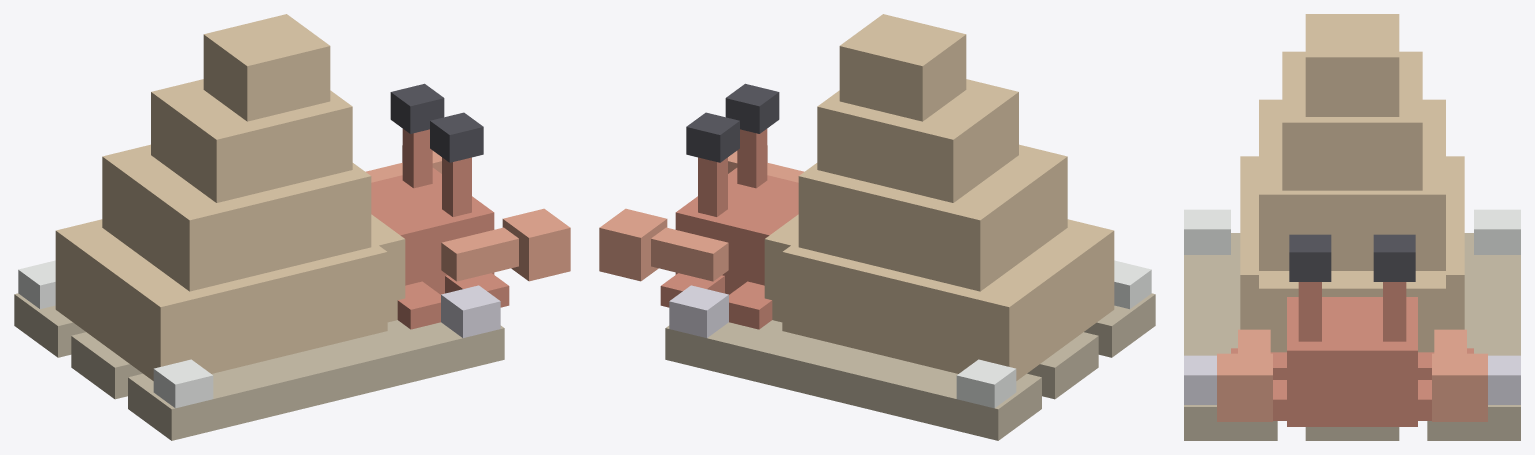
File: 36-Fauna_cangrejo_ermitano.glb
The picture shows the model from 3 angles, left to right: view 1: azimuth 30°, elevation 25°; view 2: azimuth 150°, elevation 25°; view 3: azimuth 270°, elevation 25°; orthographic projection. The views are drawn at different scales.
Parts seen in each view (by area): view 1: SM_Cangrejo_Concha_NOFUNDIR, SM_Cangrejo_Rodela_NOFUNDIR, SM_Cangrejo_Cuerpo_NOFUNDIR, SM_Cangrejo_Pinzas_NOFUNDIR, SM_Cangrejo_Conchita_1, SM_Cangrejo_Burbuja_1, SM_Cangrejo_Ojo_1, SM_Cangrejo_Ojo_2, SM_Cangrejo_Burbuja_2; view 2: SM_Cangrejo_Concha_NOFUNDIR, SM_Cangrejo_Rodela_NOFUNDIR, SM_Cangrejo_Cuerpo_NOFUNDIR, SM_Cangrejo_Pinzas_NOFUNDIR, SM_Cangrejo_Conchita_2, SM_Cangrejo_Burbuja_2, SM_Cangrejo_Ojo_2, SM_Cangrejo_Ojo_1, SM_Cangrejo_Burbuja_1; view 3: SM_Cangrejo_Concha_NOFUNDIR, SM_Cangrejo_Cuerpo_NOFUNDIR, SM_Cangrejo_Rodela_NOFUNDIR, SM_Cangrejo_Pinzas_NOFUNDIR, SM_Cangrejo_Burbuja_1, SM_Cangrejo_Burbuja_2, SM_Cangrejo_Ojo_1, SM_Cangrejo_Ojo_2, SM_Cangrejo_Conchita_1, SM_Cangrejo_Conchita_2.
Boxes of the visible parts, box(x1,y1,x2,y2) form: SM_Cangrejo_Concha_NOFUNDIR: box(55, 14, 405, 380); SM_Cangrejo_Rodela_NOFUNDIR: box(14, 293, 504, 440); SM_Cangrejo_Cuerpo_NOFUNDIR: box(371, 129, 509, 329); SM_Cangrejo_Pinzas_NOFUNDIR: box(365, 145, 570, 281); SM_Cangrejo_Conchita_1: box(441, 285, 500, 337); SM_Cangrejo_Burbuja_1: box(153, 359, 213, 408); SM_Cangrejo_Ojo_1: box(430, 112, 483, 162); SM_Cangrejo_Ojo_2: box(390, 83, 444, 133); SM_Cangrejo_Burbuja_2: box(18, 260, 55, 309); SM_Cangrejo_Concha_NOFUNDIR: box(764, 14, 1114, 380); SM_Cangrejo_Rodela_NOFUNDIR: box(665, 293, 1155, 440); SM_Cangrejo_Cuerpo_NOFUNDIR: box(660, 129, 798, 329); SM_Cangrejo_Pinzas_NOFUNDIR: box(599, 145, 804, 281); SM_Cangrejo_Conchita_2: box(669, 285, 728, 337); SM_Cangrejo_Burbuja_2: box(956, 359, 1016, 408); SM_Cangrejo_Ojo_2: box(686, 112, 739, 162); SM_Cangrejo_Ojo_1: box(725, 83, 779, 133); SM_Cangrejo_Burbuja_1: box(1114, 260, 1151, 309); SM_Cangrejo_Concha_NOFUNDIR: box(1240, 14, 1464, 352); SM_Cangrejo_Cuerpo_NOFUNDIR: box(1231, 282, 1473, 426); SM_Cangrejo_Rodela_NOFUNDIR: box(1184, 233, 1520, 440); SM_Cangrejo_Pinzas_NOFUNDIR: box(1217, 329, 1487, 421); SM_Cangrejo_Burbuja_1: box(1184, 209, 1230, 254); SM_Cangrejo_Burbuja_2: box(1474, 209, 1520, 254); SM_Cangrejo_Ojo_1: box(1289, 234, 1331, 281); SM_Cangrejo_Ojo_2: box(1373, 234, 1415, 281); SM_Cangrejo_Conchita_1: box(1184, 355, 1216, 404); SM_Cangrejo_Conchita_2: box(1488, 355, 1520, 404).
Size of the model in its own units: 0.5475 by 0.38 by 0.36.
